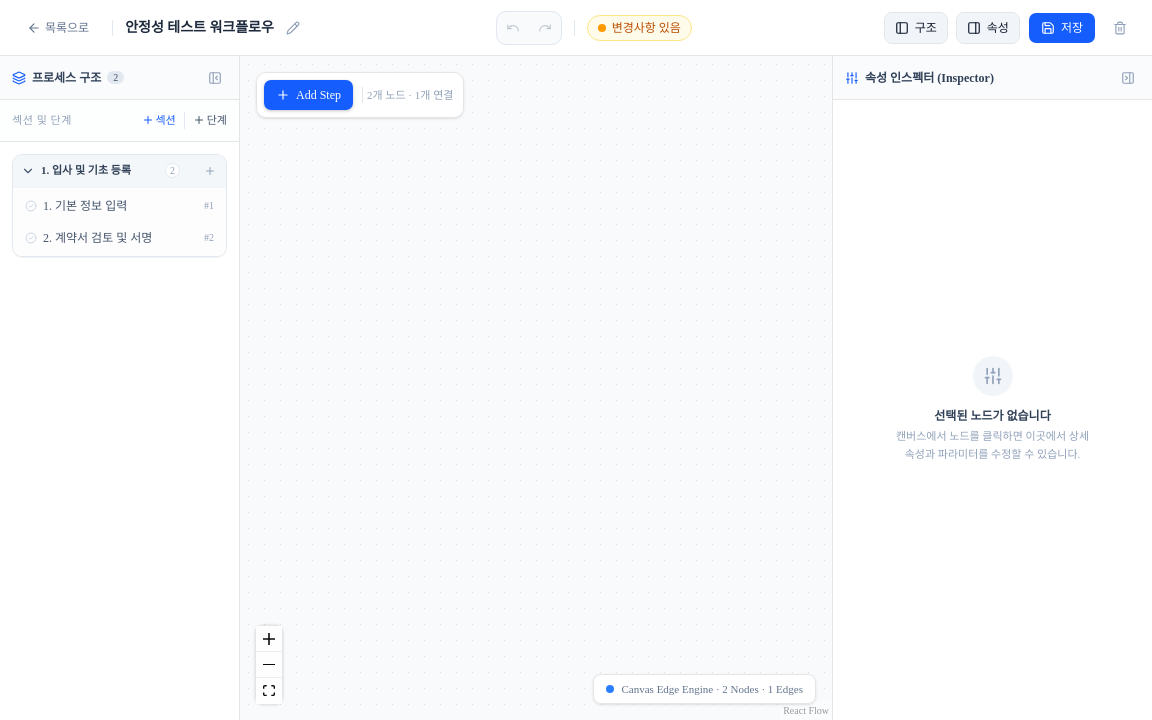
it: PHASE 14: Editor Runtime Stability & Determinism Tests › G05: 미저장 변경사항 모달 열기/취소 반복 시 모달 루프 없이 상태가 안정적으로 유지된다
Click the button with test id "header-back-btn".
click(58, 28)  # box [16, 12, 100, 44]
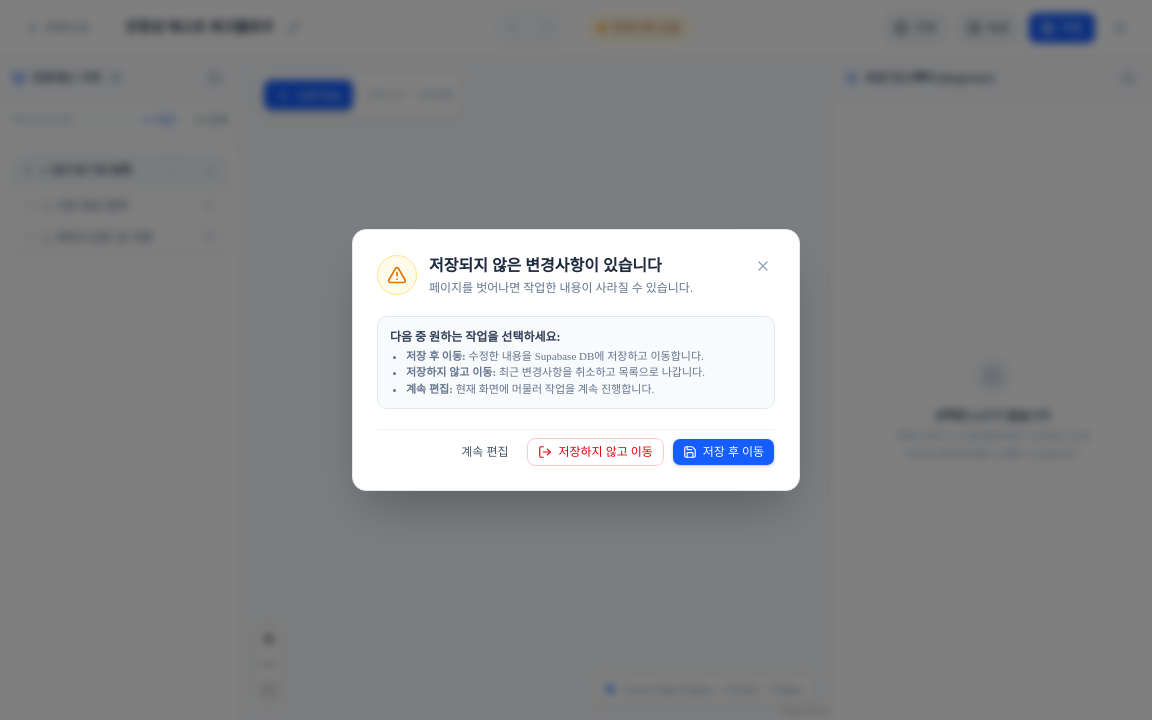
Expected: the element with test id "unsaved-changes-modal" is shown
Click the button with test id "unsaved-modal-cancel-btn".
click(485, 452)  # box [450, 438, 520, 466]
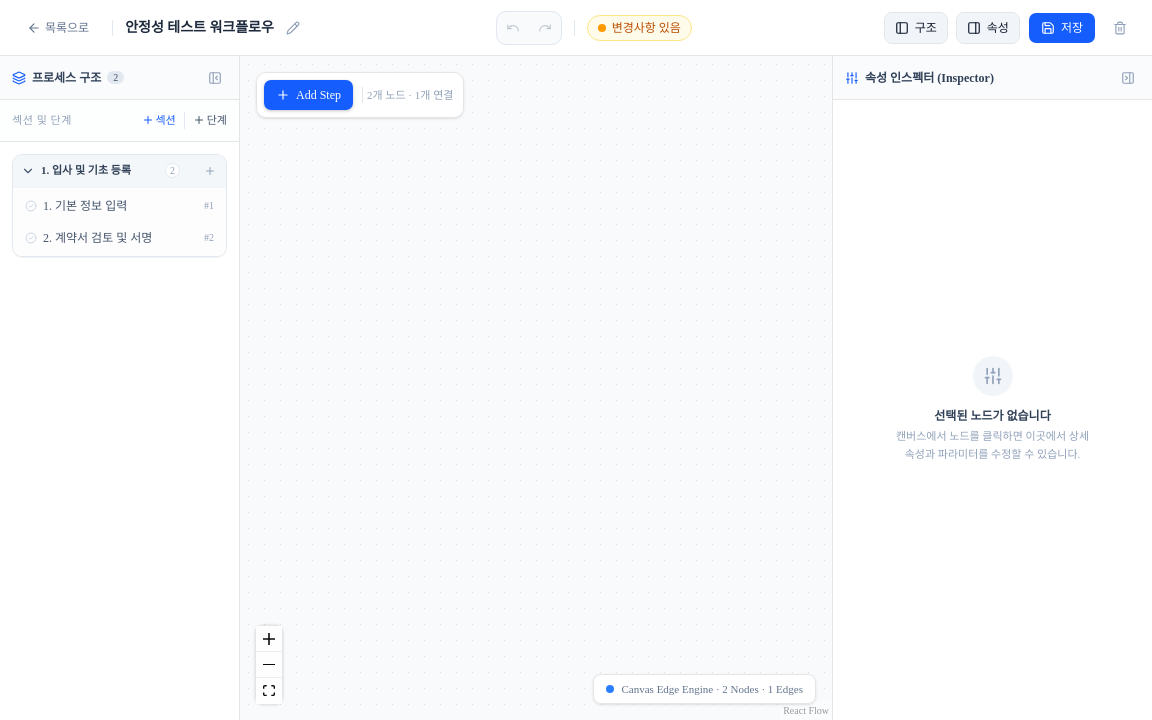
Expected: the element with test id "unsaved-changes-modal" is gone
Click the button with test id "header-back-btn".
click(58, 28)  # box [16, 12, 100, 44]
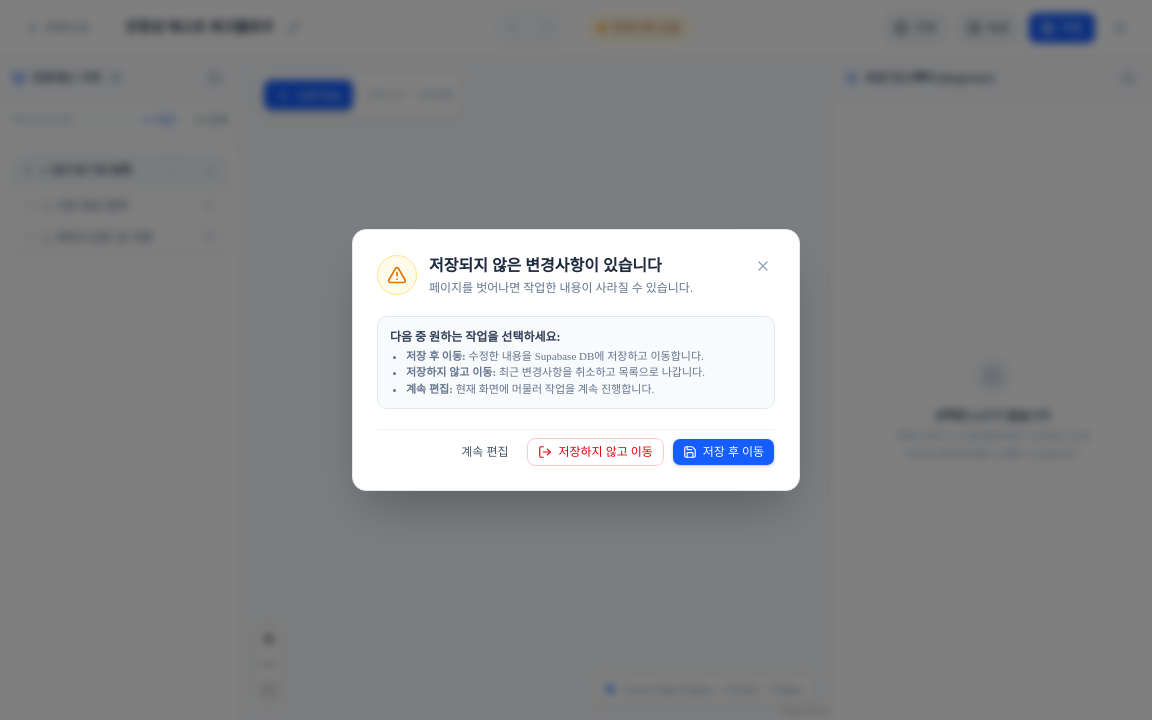
Expected: the element with test id "unsaved-changes-modal" is shown
Click the button with test id "unsaved-modal-cancel-btn".
click(485, 452)  # box [450, 438, 520, 466]
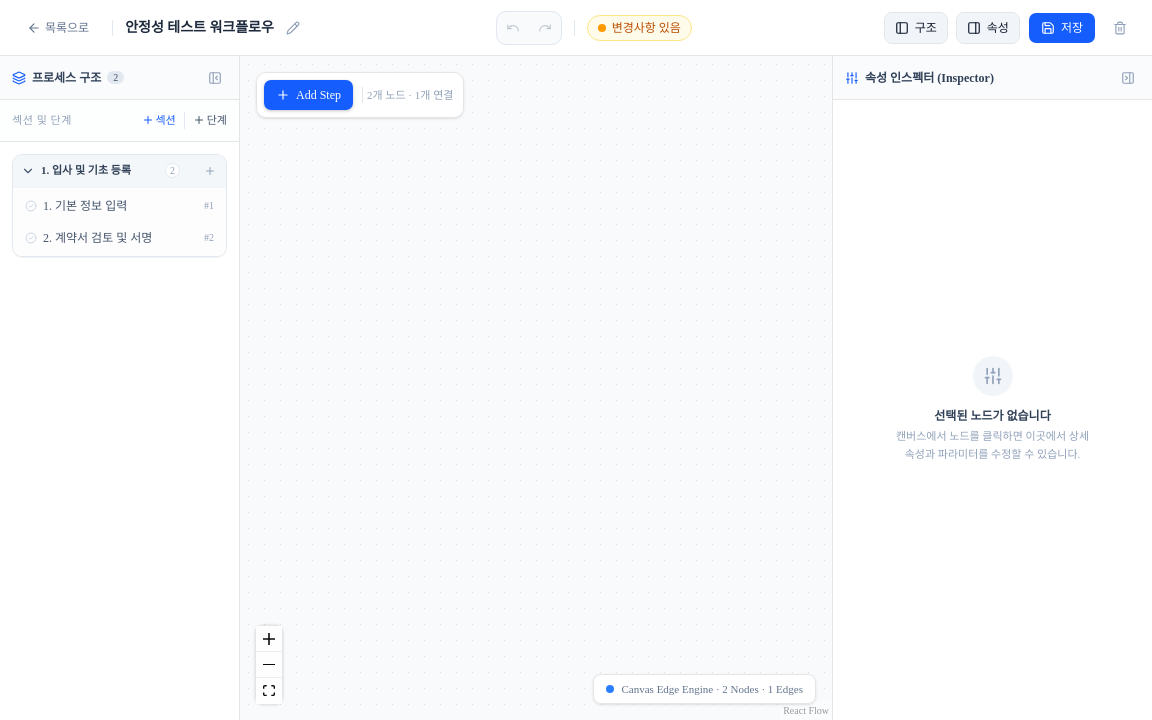
Expected: the element with test id "unsaved-changes-modal" is gone
Click the button with test id "header-back-btn".
click(58, 28)  # box [16, 12, 100, 44]
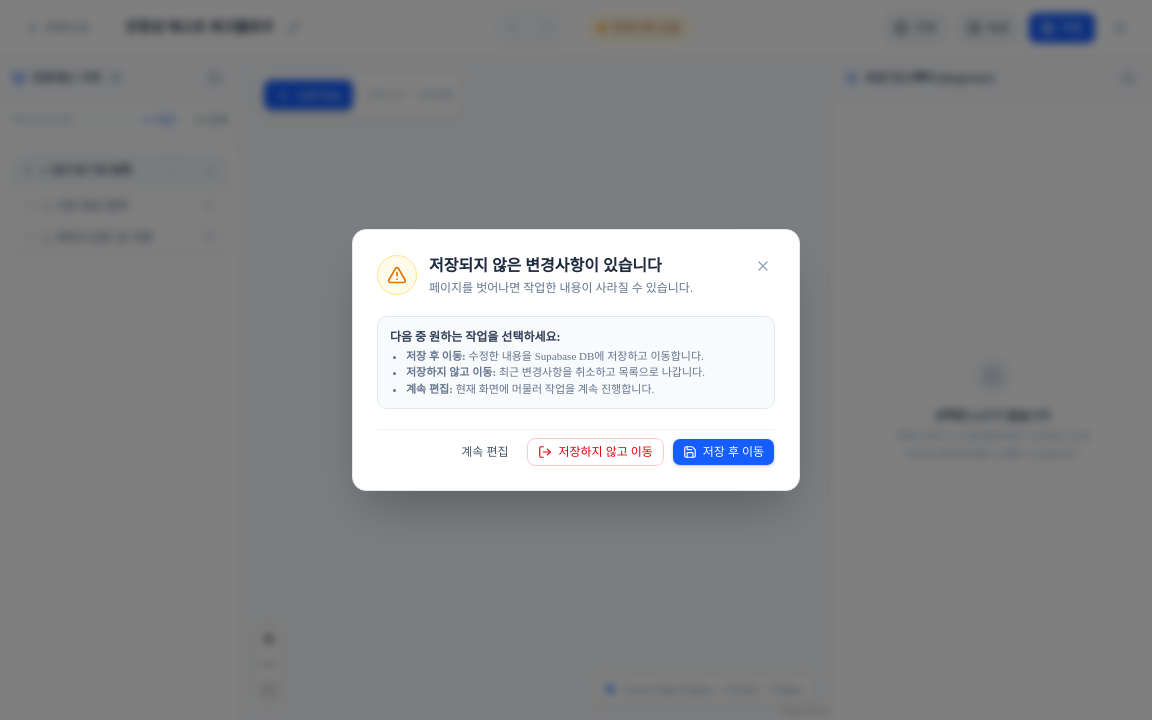
Expected: the element with test id "unsaved-changes-modal" is shown
Click the button with test id "unsaved-modal-cancel-btn".
click(485, 452)  # box [450, 438, 520, 466]
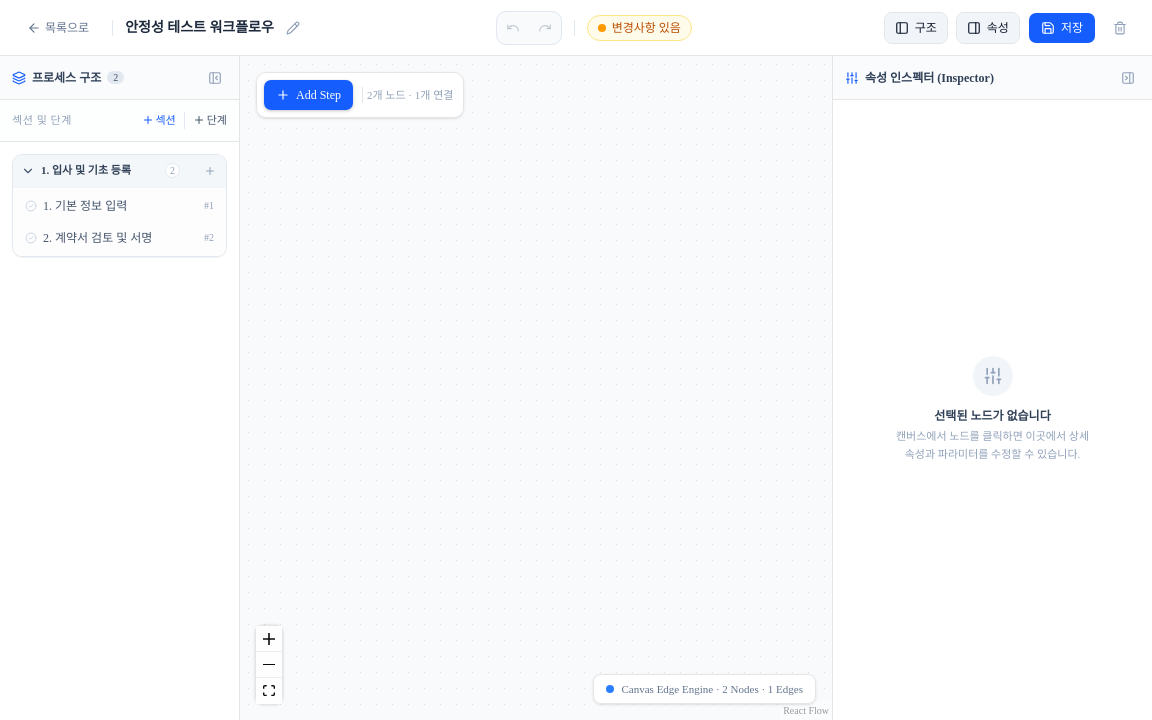
Expected: the element with test id "unsaved-changes-modal" is gone
